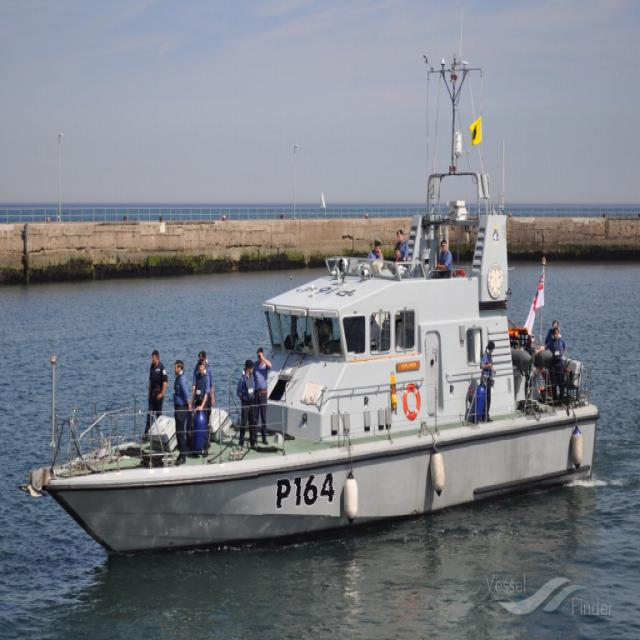OCR: (258, 472, 340, 518)
